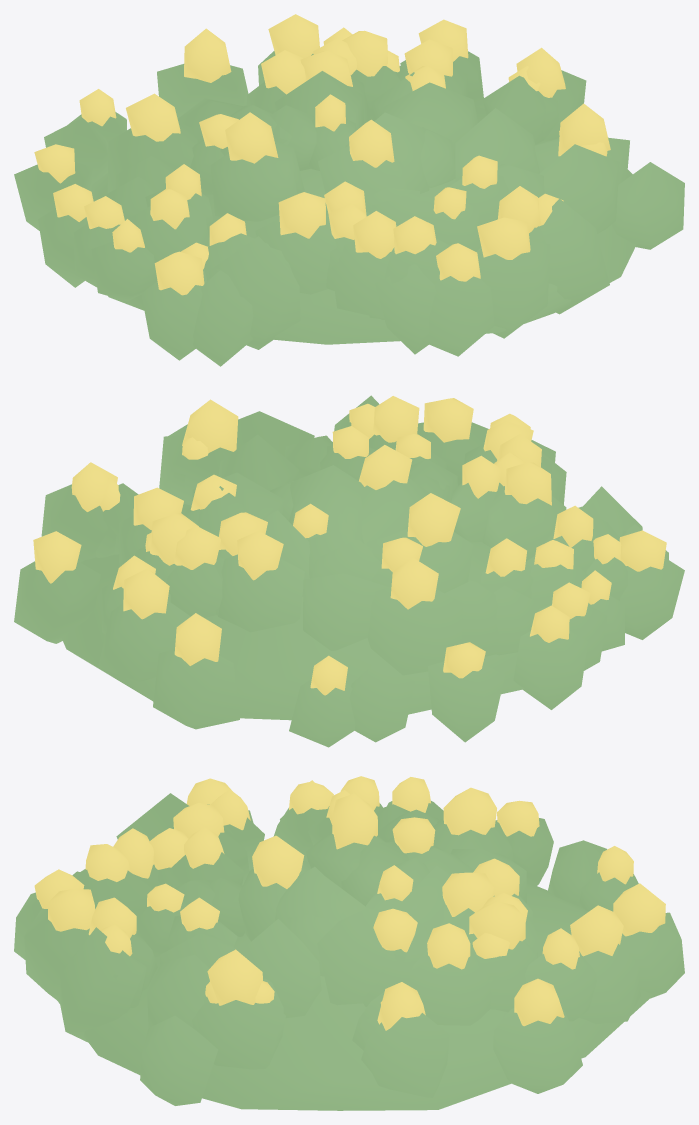
The model's file is Blender_Heather_1.glb.
The picture shows the model from 3 angles, top to bottom: view 1: azimuth 30°, elevation 25°; view 2: azimuth 150°, elevation 25°; view 3: azimuth 270°, elevation 25°; orthographic projection. The views are drawn at different scales.
Visible parts, largest first — view 1: Blender_Heather_1; view 2: Blender_Heather_1; view 3: Blender_Heather_1.
Boxes of the visible parts, left/top/right/bottom form: Blender_Heather_1: left=14, top=14, right=684, bottom=366; Blender_Heather_1: left=14, top=395, right=684, bottom=747; Blender_Heather_1: left=14, top=776, right=684, bottom=1110.
Size of the model in its own units: 1.65 by 0.4787 by 1.73.
